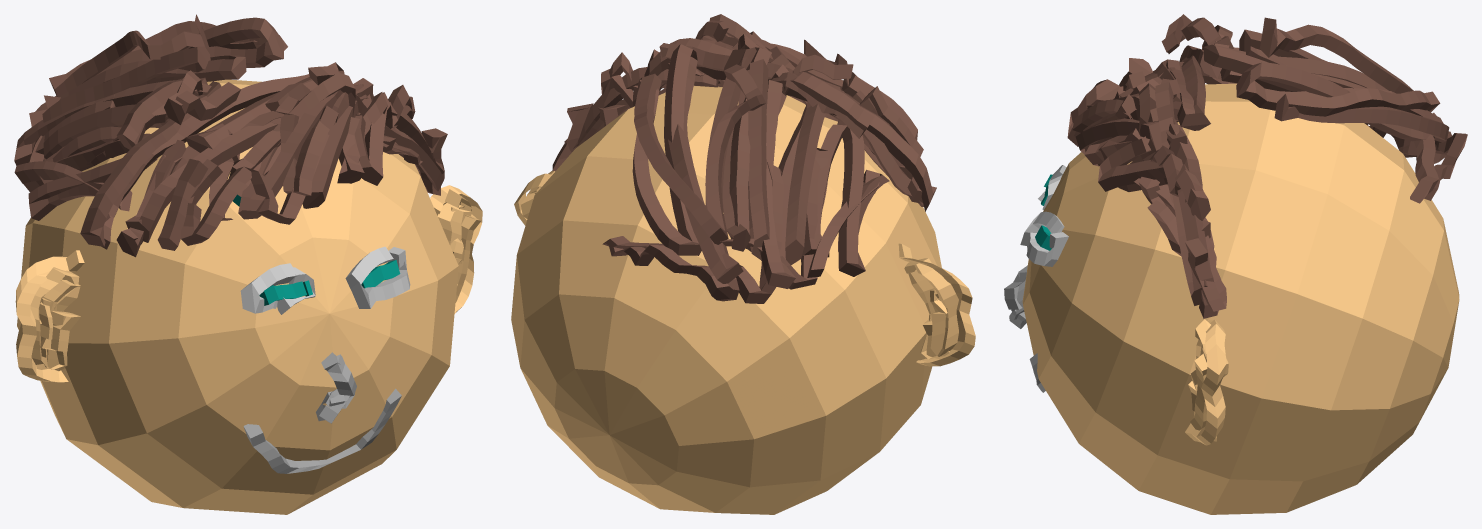
Rendered from Head_Adam.fbx.
3 renders of one model, left to right at view 1: azimuth 30°, elevation 25°; view 2: azimuth 150°, elevation 25°; view 3: azimuth 270°, elevation 25°, orthographic. The views are drawn at different scales.
Visible parts, largest first — view 1: mesh_1839729069, group_836403282, group_71698481, group_1917797927, group_1968367611, group_305046716, group_982161580, group_1201294444, group_982614380, group_1985125609, group_742315235, group_1693322998 (+7 smaller); view 2: mesh_1839729069, group_836403282, group_1968367611, group_1917797927, group_982161580, group_305046716, group_982614380, group_71698481, group_1859499620, group_1985125609, group_1201294444; view 3: mesh_1839729069, group_836403282, group_71698481, group_1917797927, group_1859499620, group_266713781, group_305046716, group_1968367611, group_1693322998, group_1042222146, group_1985125609.
Part boxes in pixels (bbox=[...]): mesh_1839729069: bbox=[17, 79, 458, 514]; group_836403282: bbox=[14, 14, 287, 220]; group_71698481: bbox=[181, 100, 386, 245]; group_1917797927: bbox=[116, 66, 444, 257]; group_1968367611: bbox=[80, 70, 240, 246]; group_305046716: bbox=[101, 62, 344, 249]; group_982161580: bbox=[30, 267, 80, 371]; group_1201294444: bbox=[238, 90, 349, 219]; group_982614380: bbox=[15, 250, 84, 382]; group_1985125609: bbox=[157, 159, 222, 250]; group_742315235: bbox=[243, 388, 401, 473]; group_1693322998: bbox=[345, 246, 410, 308]; mesh_1839729069: bbox=[511, 85, 941, 514]; group_836403282: bbox=[602, 44, 889, 303]; group_1968367611: bbox=[771, 39, 936, 211]; group_1917797927: bbox=[564, 14, 912, 179]; group_982161580: bbox=[904, 258, 958, 359]; group_305046716: bbox=[665, 35, 923, 206]; group_982614380: bbox=[898, 243, 975, 366]; group_71698481: bbox=[661, 31, 917, 140]; group_1859499620: bbox=[552, 88, 665, 171]; group_1985125609: bbox=[852, 86, 923, 156]; group_1201294444: bbox=[709, 33, 852, 97]; mesh_1839729069: bbox=[1022, 83, 1459, 514]; group_836403282: bbox=[1201, 17, 1467, 203]; group_71698481: bbox=[1067, 77, 1167, 191]; group_1917797927: bbox=[1138, 62, 1210, 305]; group_1859499620: bbox=[1134, 177, 1226, 318]; group_266713781: bbox=[1185, 319, 1226, 445]; group_305046716: bbox=[1119, 55, 1210, 130]; group_1968367611: bbox=[1161, 14, 1233, 78]; group_1693322998: bbox=[1020, 211, 1068, 266]; group_1042222146: bbox=[1188, 319, 1228, 441]; group_1985125609: bbox=[1119, 58, 1152, 90].
Size of the model in its own units: 51.59 by 50.28 by 45.5.
